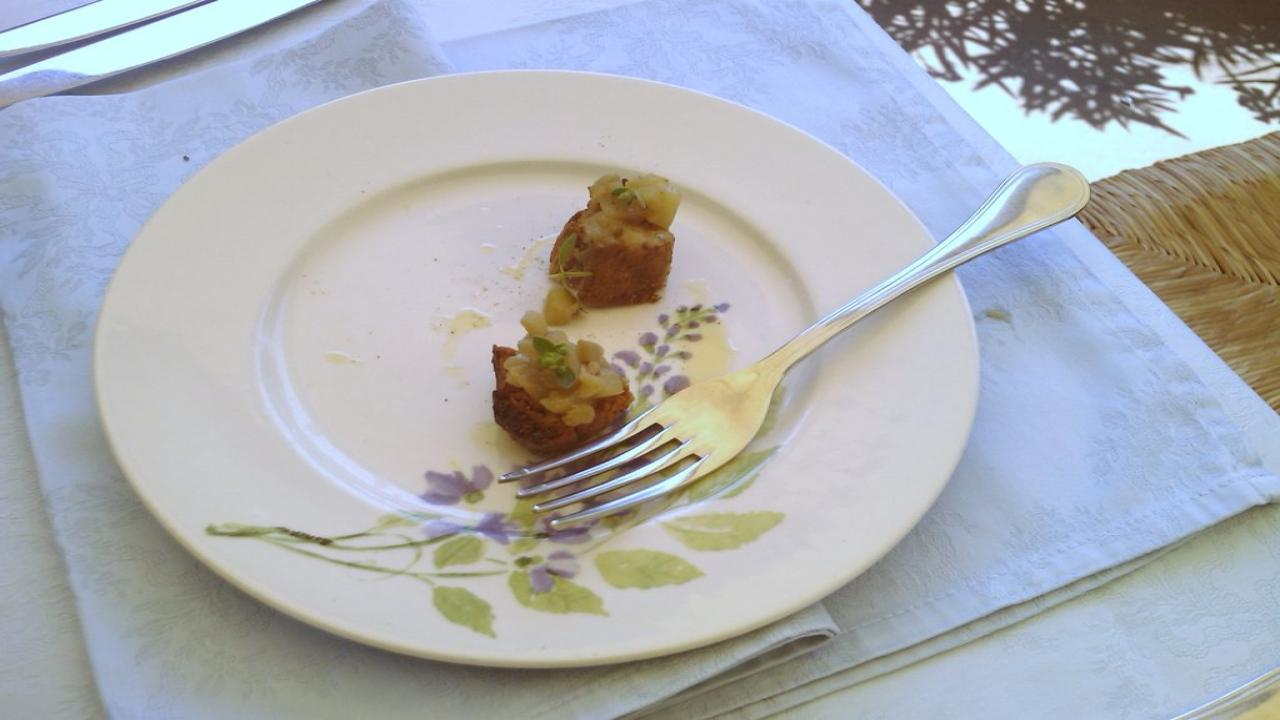fork: (496, 157, 1096, 535)
